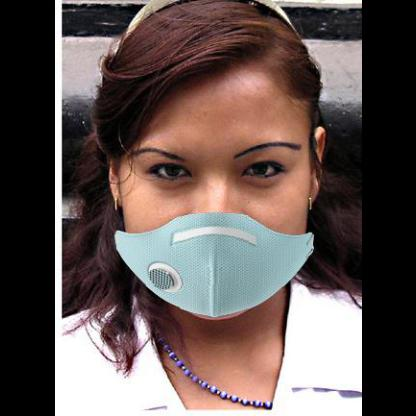FFP Mask: (114, 124, 306, 306)
